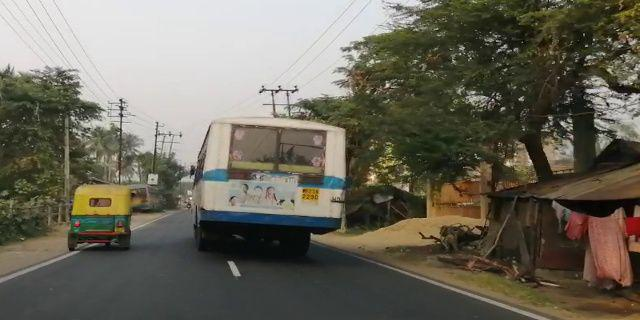Autorickshaw: (63, 177, 133, 255)
Bus: (190, 112, 346, 259)
